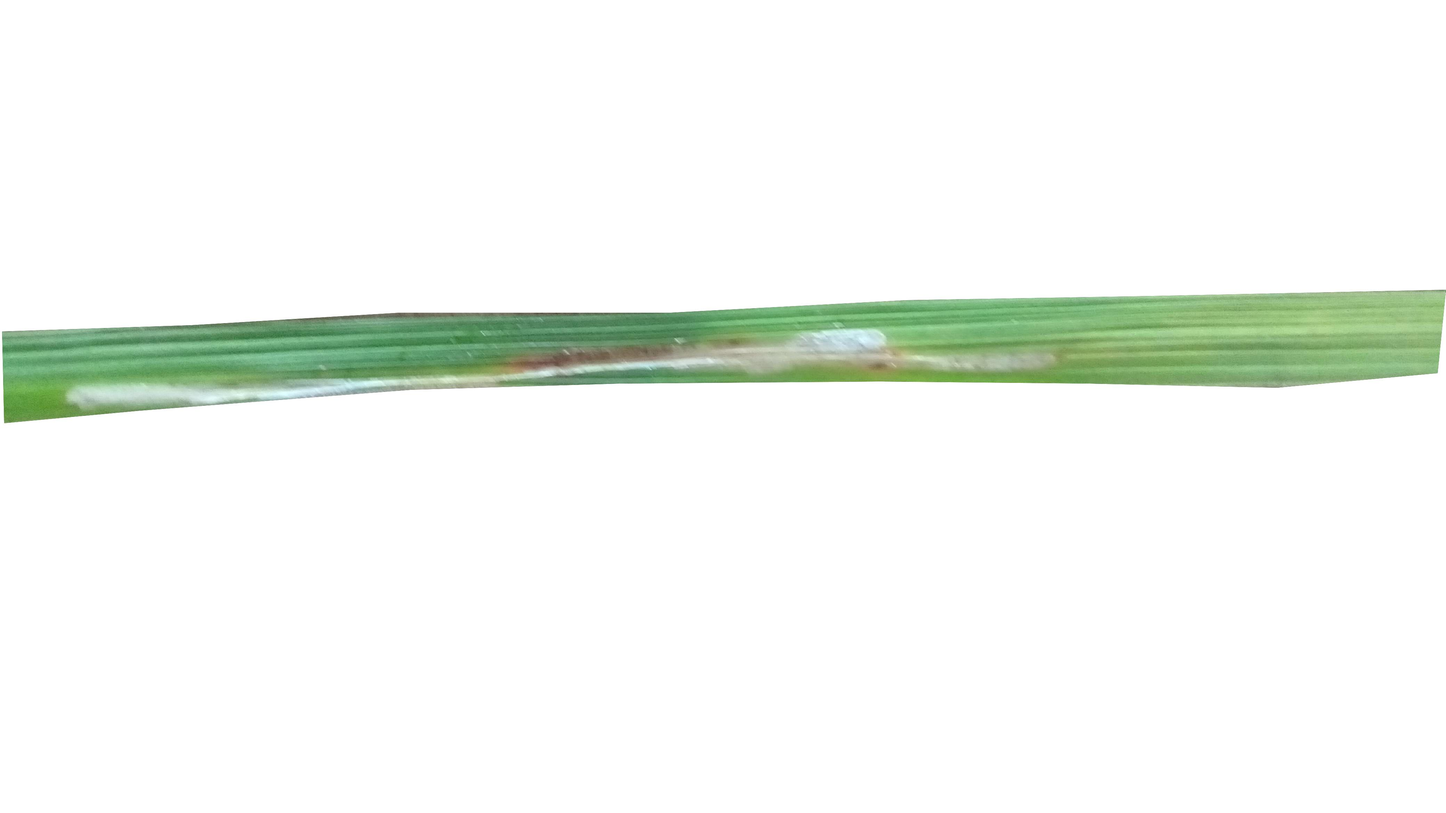Blight: (558, 342, 1074, 365), (70, 375, 308, 403), (789, 316, 893, 377)
